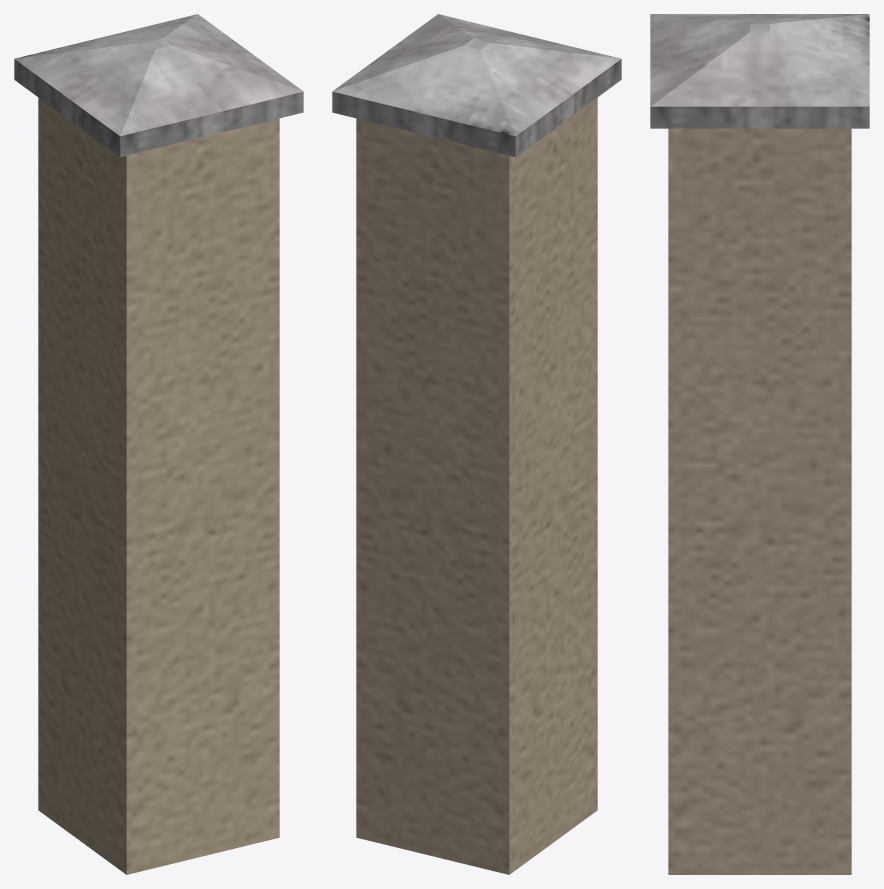
The model's file is plaster_wall_column.fbx.
The picture shows the model from 3 angles, left to right: view 1: azimuth 30°, elevation 25°; view 2: azimuth 150°, elevation 25°; view 3: azimuth 270°, elevation 25°; orthographic projection. The views are drawn at different scales.
Parts seen in each view (by area): view 1: plaster_wall_column; view 2: plaster_wall_column; view 3: plaster_wall_column.
Part boxes in pixels (<box>): plaster_wall_column: <box>14,14,303,874</box>; plaster_wall_column: <box>332,14,621,874</box>; plaster_wall_column: <box>650,14,869,874</box>.
Bounding box in the file's own units: 52.79 × 214 × 52.79.
Materials: 2 (2 with a texture image).
